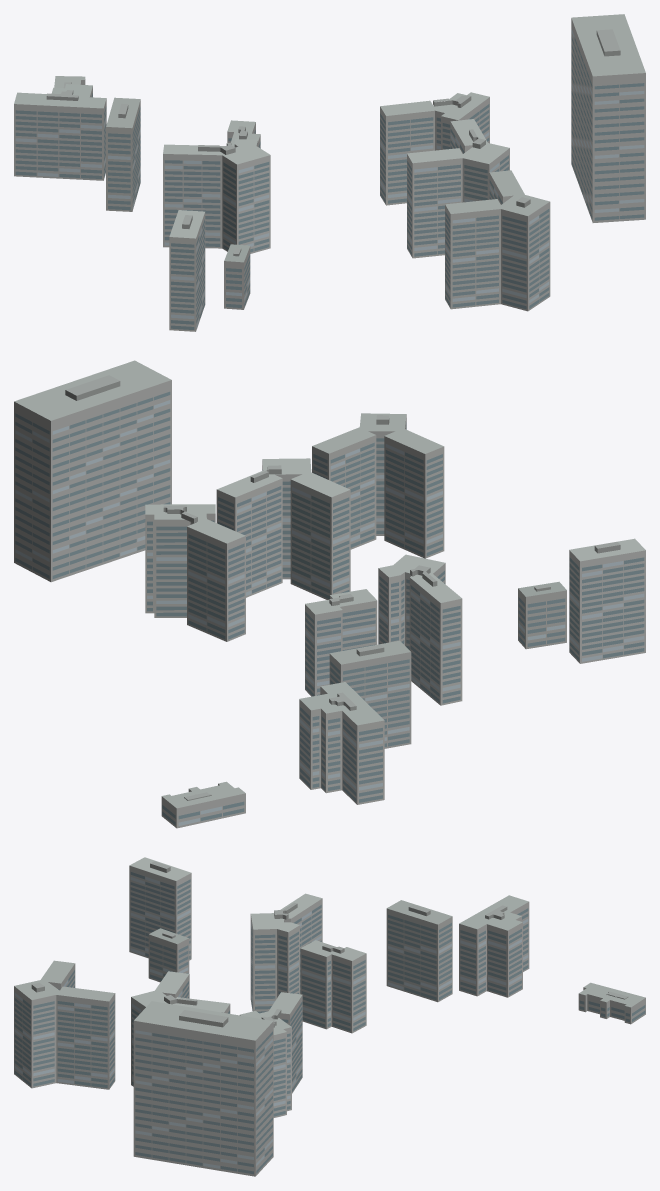
File: apt-a12170603.glb
The picture shows the model from 3 angles, top to bottom: view 1: azimuth 30°, elevation 25°; view 2: azimuth 150°, elevation 25°; view 3: azimuth 270°, elevation 25°; orthographic projection. The views are drawn at different scales.
Parts seen in each view (by area): view 1: apt-a12170603; view 2: apt-a12170603; view 3: apt-a12170603.
Part boxes in pixels (x1=…): apt-a12170603: x1=14, y1=14, x2=645, y2=331; apt-a12170603: x1=14, y1=360, x2=645, y2=828; apt-a12170603: x1=14, y1=857, x2=645, y2=1176.
Size of the model in its own units: 270 by 76 by 310.
